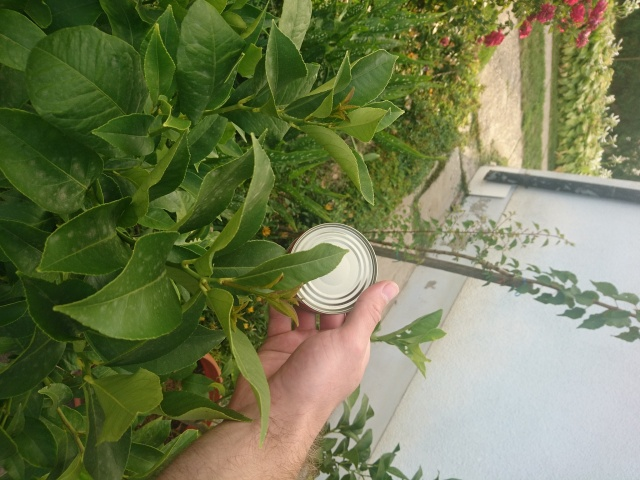Podravka Luncheon Meat 150g: (272, 220, 381, 318)
